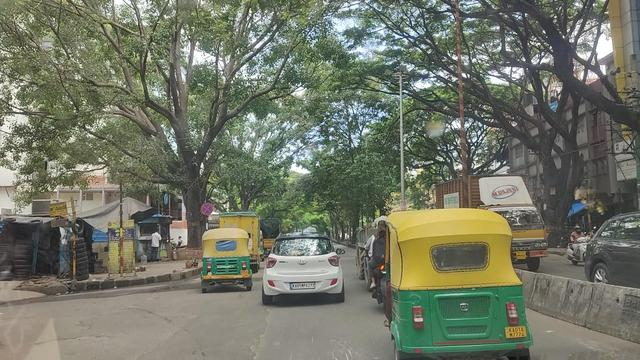LMV: (382, 204, 524, 360), (262, 231, 339, 295), (201, 228, 253, 289)
RoadDamages: (132, 315, 209, 360), (35, 320, 115, 351), (250, 300, 276, 360), (117, 294, 161, 311)
